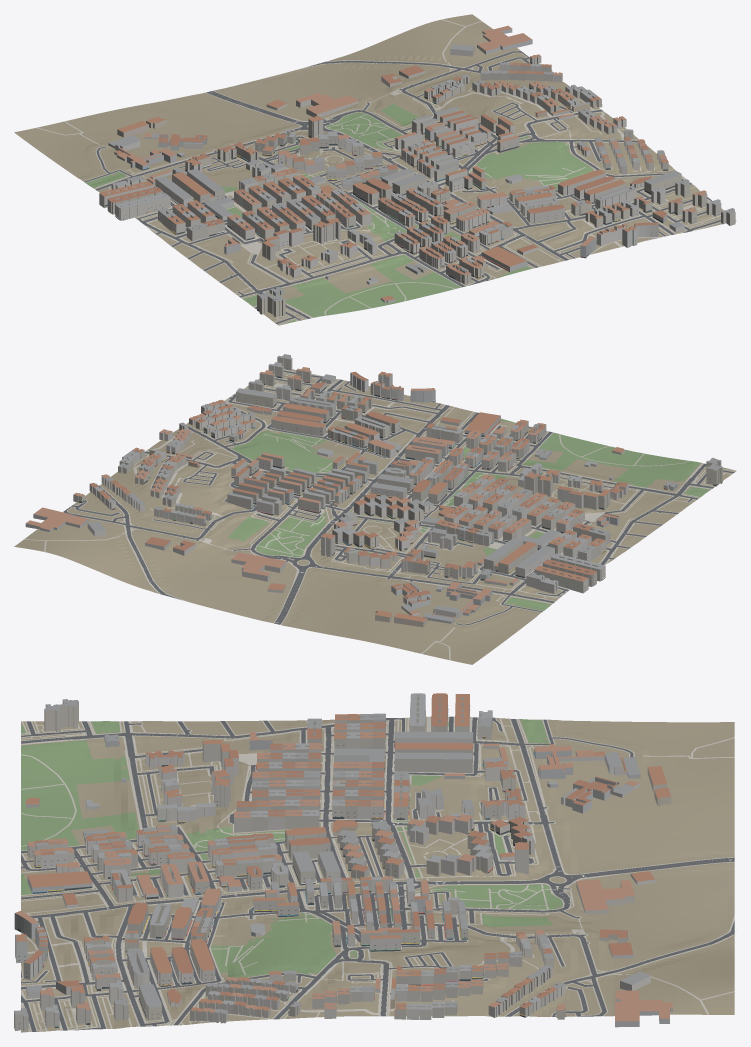
The picture shows the model from 3 angles, top to bottom: view 1: azimuth 30°, elevation 25°; view 2: azimuth 150°, elevation 25°; view 3: azimuth 270°, elevation 25°; orthographic projection. The views are drawn at different scales.
Visible parts, largest first — view 1: Ground, Walls, Roofs, Sidewalk, Park, Road, Detail; view 2: Ground, Walls, Roofs, Sidewalk, Road, Park, Detail; view 3: Ground, Walls, Roofs, Sidewalk, Road, Park, Detail.
Boxes of the visible parts, left/top/right/bottom form: Ground: left=14, top=14, right=736, bottom=325; Walls: left=99, top=29, right=735, bottom=316; Roofs: left=99, top=25, right=734, bottom=301; Sidewalk: left=35, top=19, right=723, bottom=325; Park: left=86, top=104, right=593, bottom=323; Road: left=84, top=51, right=720, bottom=323; Detail: left=100, top=62, right=718, bottom=310; Ground: left=14, top=368, right=735, bottom=664; Walls: left=25, top=355, right=722, bottom=627; Roofs: left=26, top=354, right=722, bottom=621; Sidewalk: left=23, top=369, right=736, bottom=660; Road: left=63, top=370, right=734, bottom=625; Park: left=228, top=418, right=728, bottom=610; Detail: left=79, top=365, right=717, bottom=590; Ground: left=21, top=716, right=734, bottom=1032; Walls: left=14, top=695, right=672, bottom=1031; Roofs: left=14, top=693, right=672, bottom=1021; Sidewalk: left=21, top=716, right=734, bottom=1031; Road: left=21, top=716, right=734, bottom=1031; Park: left=21, top=719, right=562, bottom=978; Detail: left=15, top=705, right=535, bottom=1028.
Size of the model in its own units: 1065 by 55.03 by 1013.
